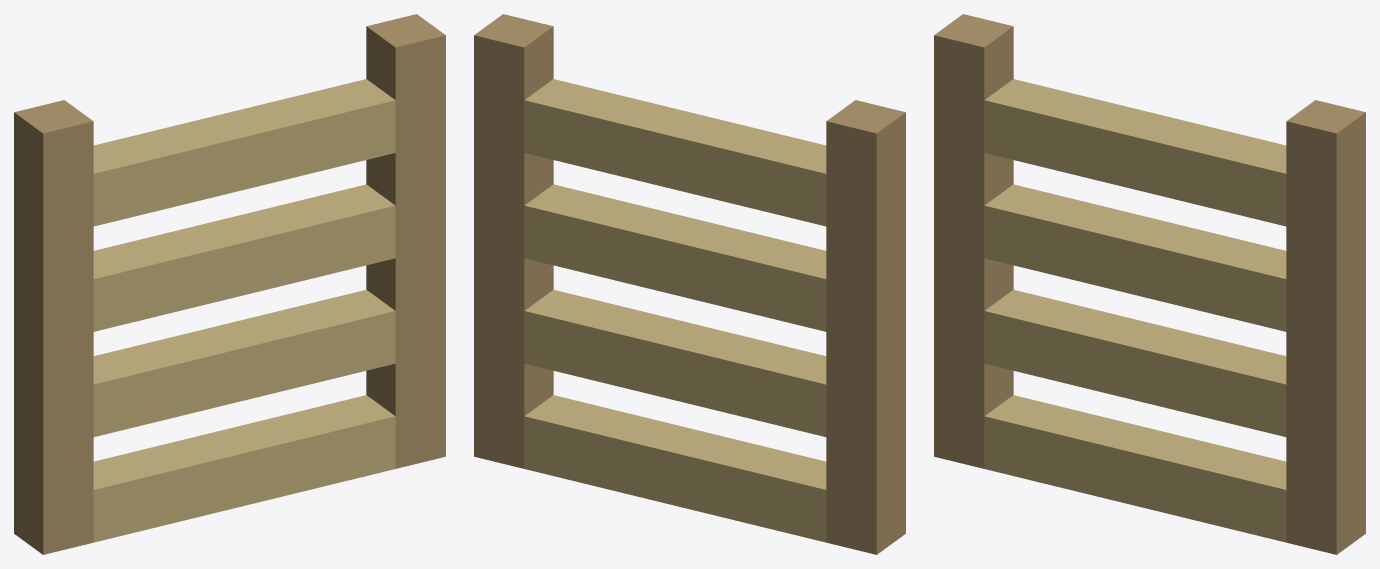
Rendered from Aspen Ladder.glb.
3 views of the same model, side by side, from view 1: azimuth 30°, elevation 25°; view 2: azimuth 150°, elevation 25°; view 3: azimuth 330°, elevation 25° (orthographic).
Parts seen in each view (by area): view 1: Untitled; view 2: Untitled; view 3: Untitled.
Boxes of the visible parts, x1,y1,x2,y2 form: Untitled: (14, 14, 445, 554); Untitled: (474, 14, 905, 554); Untitled: (934, 14, 1365, 554).
Bounding box in the file's own units: 0.8 × 0.8 × 0.1.
Materials: 1 (1 with a texture image).
